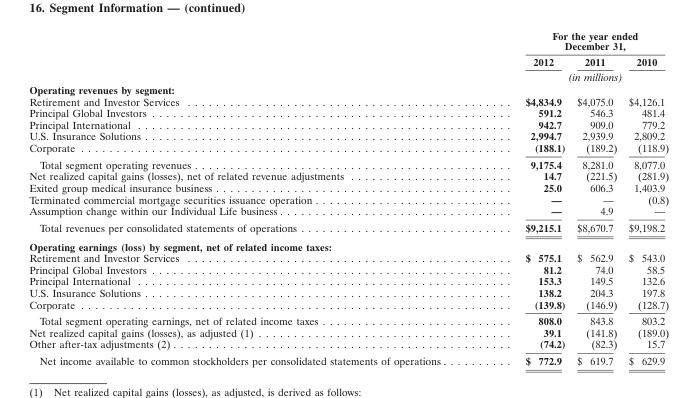table: (28, 29, 668, 366)
table column: (28, 29, 482, 366), (482, 29, 570, 366), (570, 29, 622, 366), (622, 29, 668, 366)
table column header: (28, 29, 668, 82)
table projected row header: (28, 236, 668, 251), (28, 82, 668, 95)
table row: (28, 29, 668, 53), (28, 218, 668, 236), (28, 53, 668, 68), (28, 236, 668, 251), (28, 68, 668, 82), (28, 141, 668, 155), (28, 155, 668, 169), (28, 204, 668, 218), (28, 298, 668, 312), (28, 312, 668, 326), (28, 338, 668, 352), (28, 352, 668, 366), (28, 82, 668, 95), (28, 106, 668, 118), (28, 118, 668, 130), (28, 169, 668, 181), (28, 181, 668, 193), (28, 251, 668, 263), (28, 274, 668, 286), (28, 286, 668, 298), (28, 326, 668, 338), (28, 95, 668, 106), (28, 130, 668, 141), (28, 193, 668, 204), (28, 263, 668, 274)
table spanning cell: (482, 29, 668, 53), (482, 68, 668, 82)
